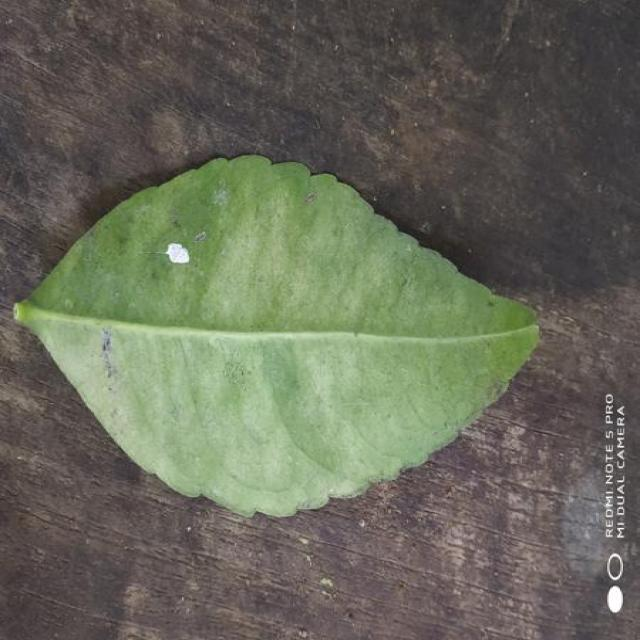CVC: (17, 155, 538, 516)
